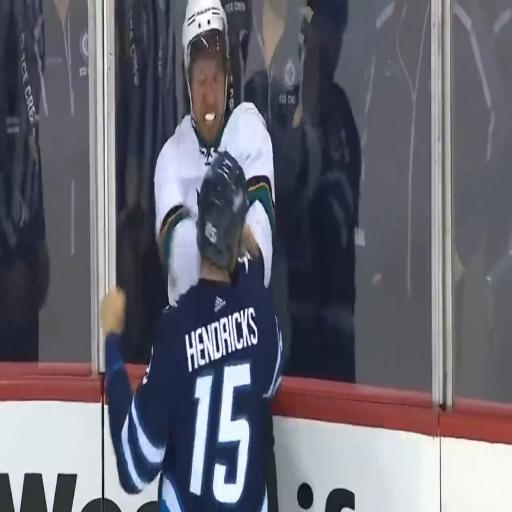violencia: (90, 1, 285, 512)
